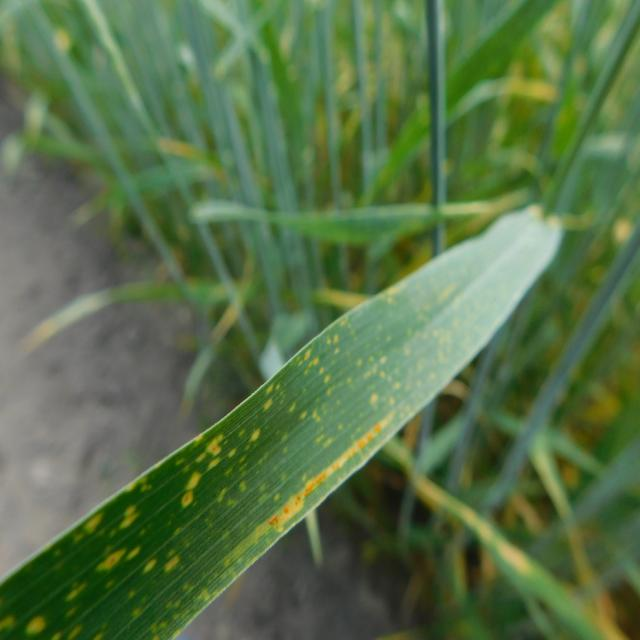wheat-yellowrust: (0, 208, 563, 640)
